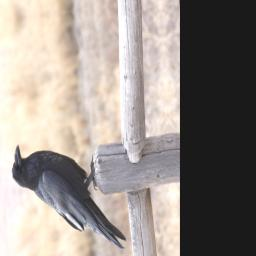Crow: (9, 130, 129, 256)
